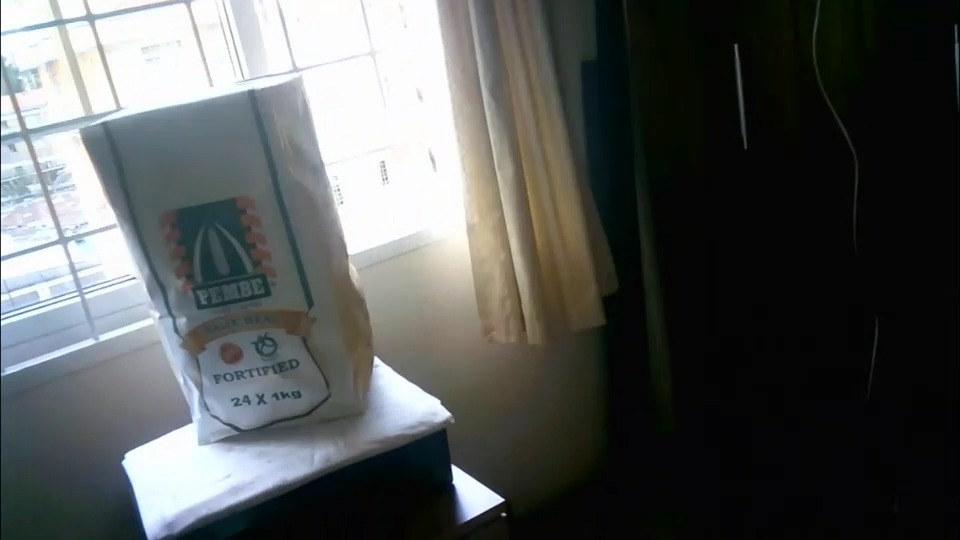maize_flour_green_label: (79, 75, 372, 417)
